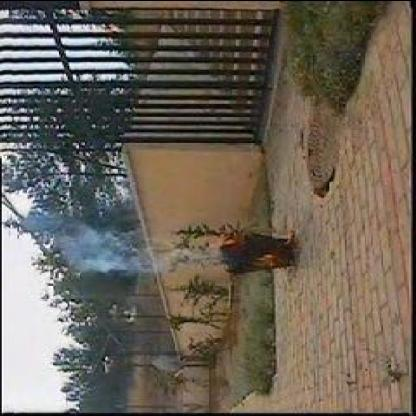-: (41, 218, 167, 275)
foggia-v2-map80-epoch100 - v1 4323: (201, 236, 241, 250)
